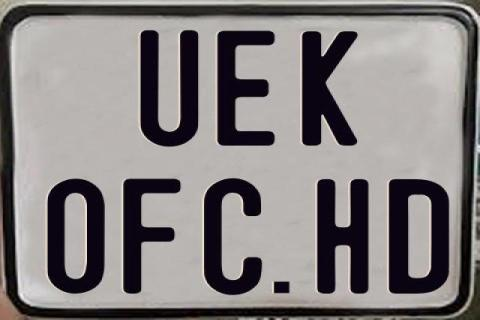0: (45, 176, 106, 293)
C: (203, 178, 265, 298)
D: (388, 178, 449, 298)
E: (217, 31, 281, 146)
F: (122, 177, 186, 297)
H: (317, 177, 373, 291)
K: (299, 30, 357, 148)
U: (137, 28, 201, 149)
